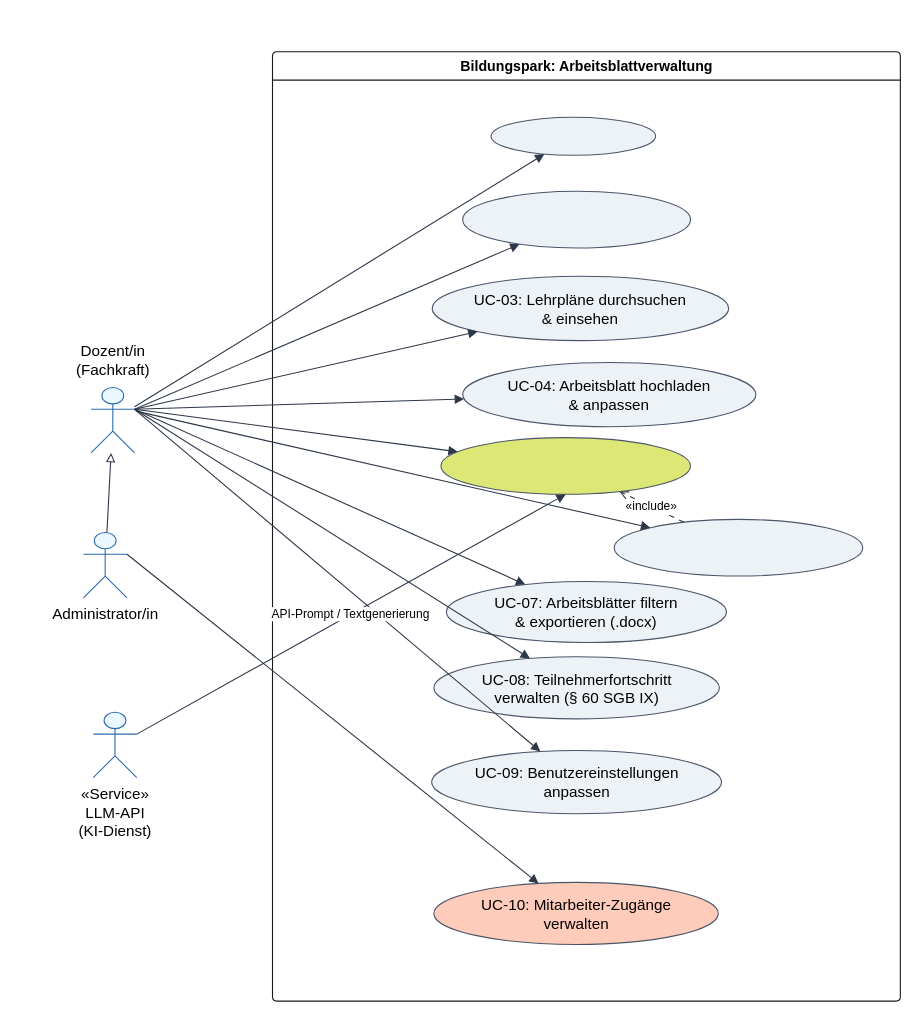
Image size: 920x1020. Some labels were removed from this diagram. The centre of each missing label's shape, as x and y in pixels:
UC-01: Anmelden: point (573, 135)
UC-02: Dashboard & Kennzahlen einsehen: point (576, 219)
UC-05: Arbeitsblatt mit KI generieren: point (565, 465)
UC-06: Arbeitsblatt aus Lehrplan ableiten: point (738, 547)
